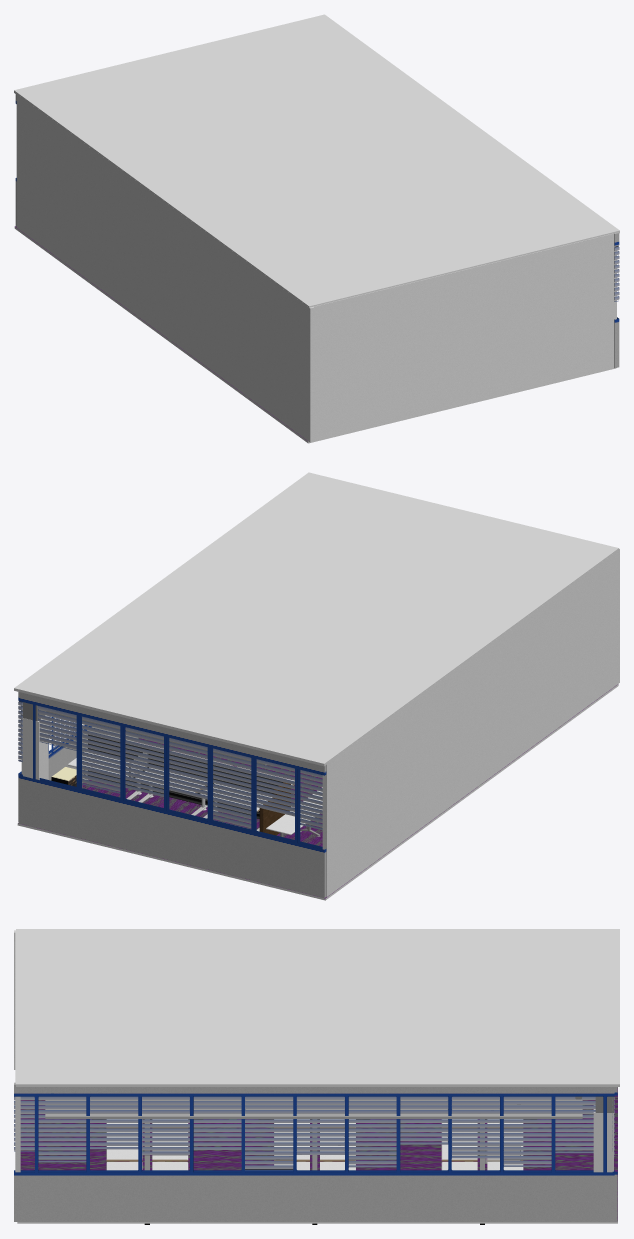
The model's file is Corner Room - full duplicates.fbx.
3 renders of one model, top to bottom at view 1: azimuth 30°, elevation 25°; view 2: azimuth 150°, elevation 25°; view 3: azimuth 270°, elevation 25°, orthographic. The views are drawn at different scales.
Visible parts, largest first — view 1: Roof, West wall, South wall.001, Floor, North wall; view 2: Roof, South wall.001, East wall, Floor, Desk Wall, North wall, Corner Pillar Base, Desk Top.001, end cap; view 3: Roof, North wall, Floor, Desk Top.001, Drop ceiling, Corner Pillar Base, West wall, Desk Wall.
Part boxes in pixels (x1=…): Roof: x1=14, y1=14, x2=619, y2=307; West wall: x1=314, y1=233, x2=616, y2=440; South wall.001: x1=16, y1=94, x2=314, y2=442; Floor: x1=14, y1=226, x2=616, y2=443; North wall: x1=614, y1=232, x2=619, y2=368; Roof: x1=14, y1=472, x2=618, y2=766; South wall.001: x1=322, y1=548, x2=619, y2=896; East wall: x1=18, y1=692, x2=326, y2=897; Floor: x1=17, y1=684, x2=618, y2=900; Desk Wall: x1=88, y1=731, x2=285, y2=818; North wall: x1=18, y1=692, x2=138, y2=821; Corner Pillar Base: x1=21, y1=715, x2=48, y2=779; Desk Top.001: x1=68, y1=735, x2=294, y2=811; end cap: x1=259, y1=782, x2=290, y2=835; Roof: x1=16, y1=929, x2=619, y2=1086; North wall: x1=14, y1=1082, x2=614, y2=1221; Floor: x1=17, y1=1087, x2=617, y2=1223; Desk Top.001: x1=106, y1=1119, x2=523, y2=1170; Drop ceiling: x1=45, y1=1100, x2=582, y2=1118; Corner Pillar Base: x1=593, y1=1105, x2=613, y2=1172; West wall: x1=15, y1=932, x2=20, y2=1172; Desk Wall: x1=144, y1=1119, x2=484, y2=1224.
Bounding box in the file's own units: 7251 × 3153 × 11959.
